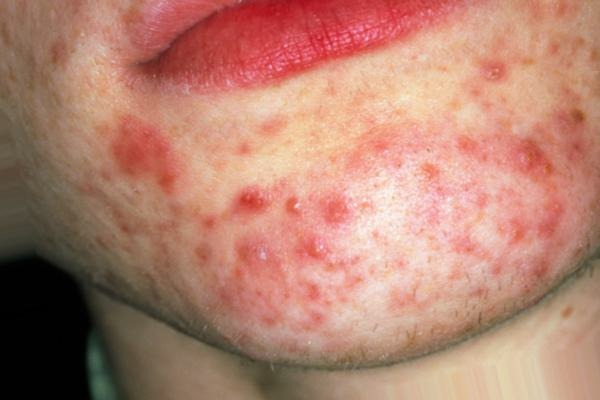Acne: (47, 71, 575, 349)
